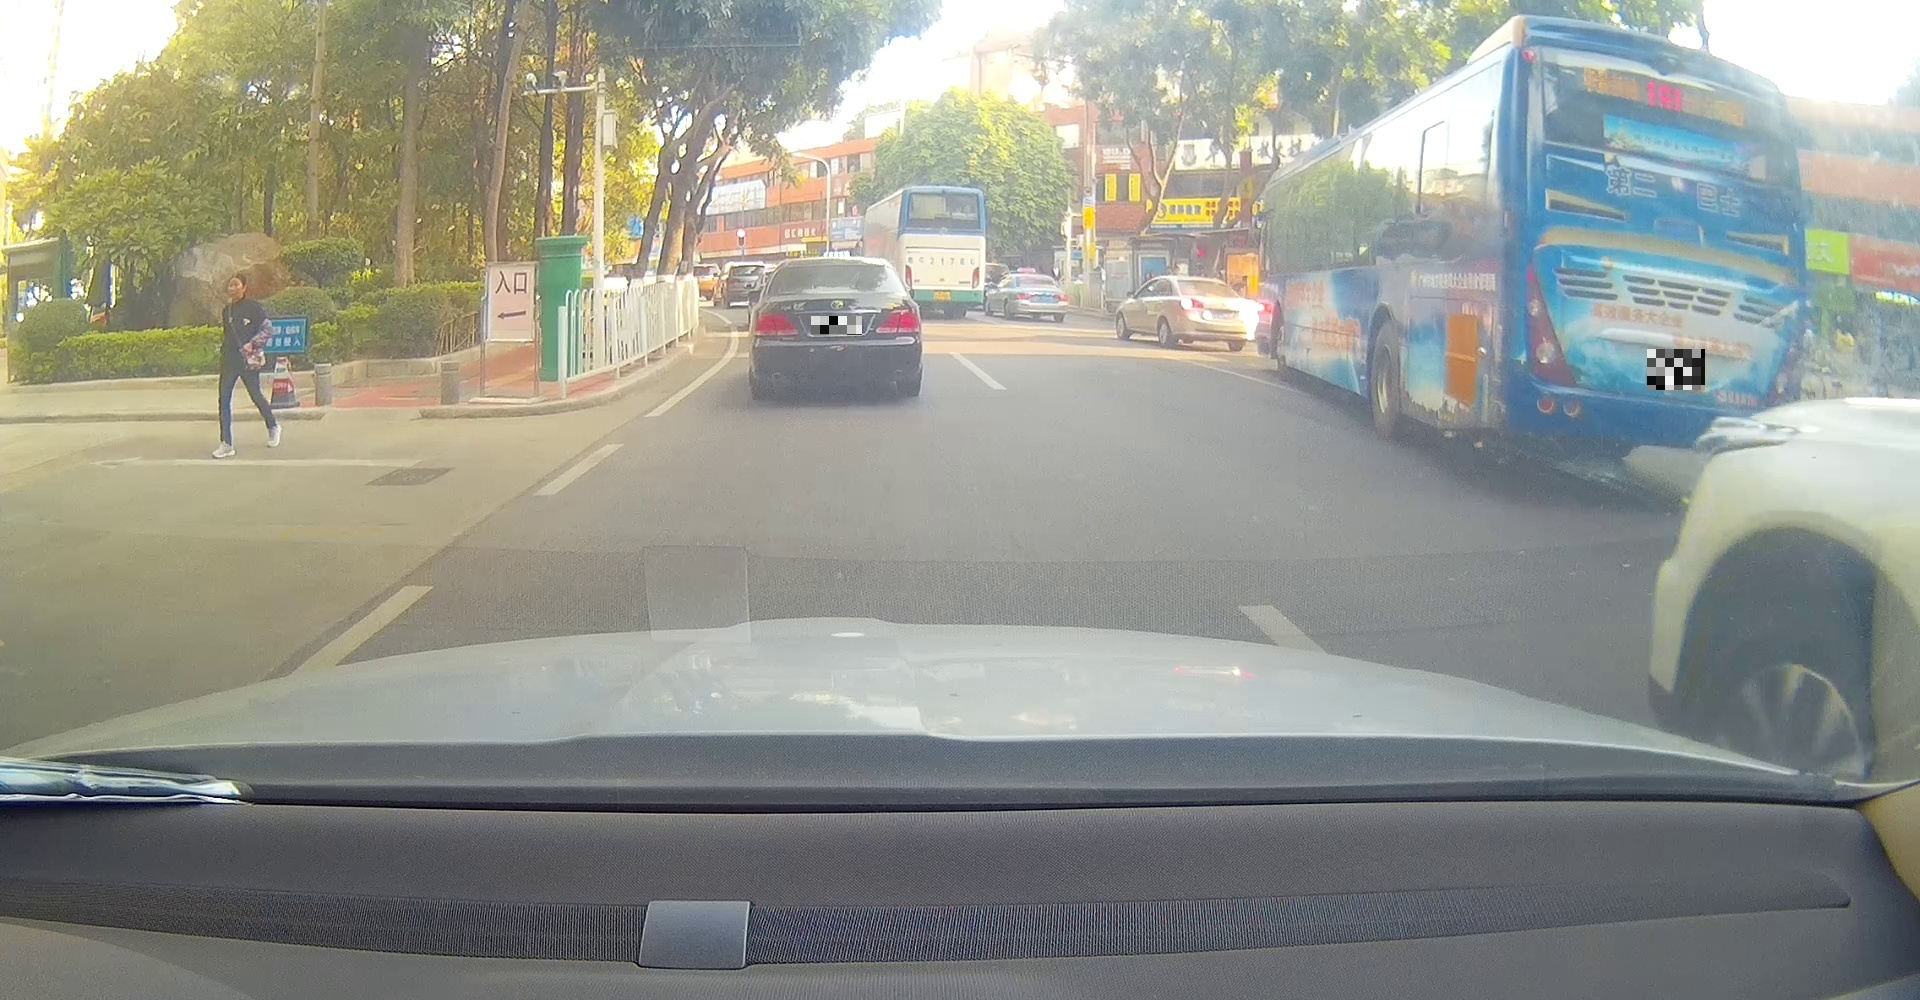L_light: (1523, 264, 1575, 387), (752, 312, 799, 336), (1178, 298, 1204, 310), (1016, 293, 1031, 299)
R_light: (1763, 319, 1804, 407), (874, 307, 919, 332), (1239, 302, 1255, 313), (1053, 294, 1068, 301)
T_light: (1650, 53, 1688, 76), (817, 287, 850, 293), (1206, 292, 1217, 298), (1032, 275, 1039, 279)
day-brake: (1171, 275, 1255, 352)
day-no: (1498, 14, 1810, 462), (748, 258, 922, 400), (1015, 274, 1069, 322)
plate_1: (811, 316, 862, 335)
plate_2: (1647, 349, 1705, 390)
